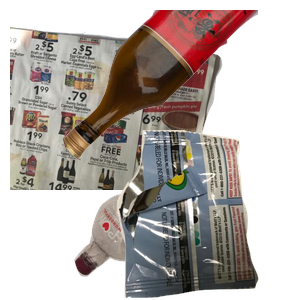glass: (60, 10, 300, 163)
paper: (10, 22, 225, 202)
plastic: (72, 142, 273, 300)
trash: (114, 130, 300, 300)
